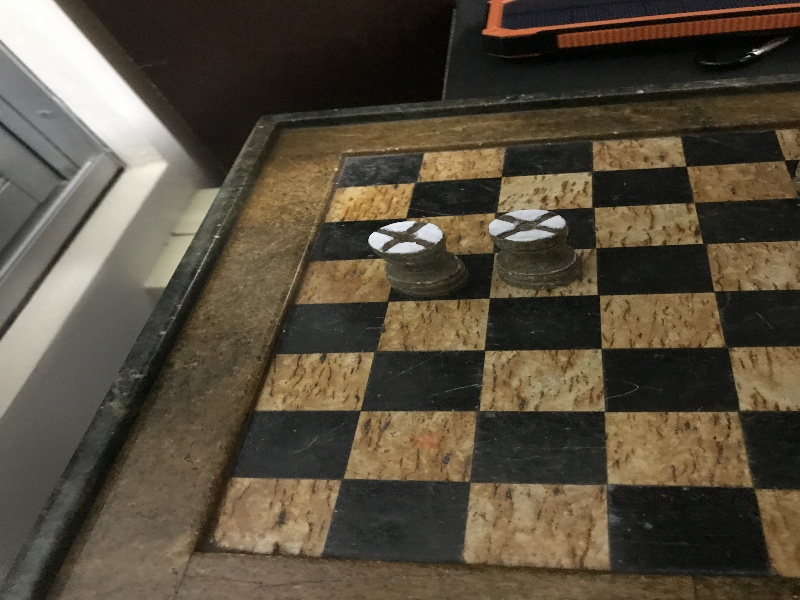WhiteBishop: (367, 220, 467, 296), (488, 209, 578, 287)
